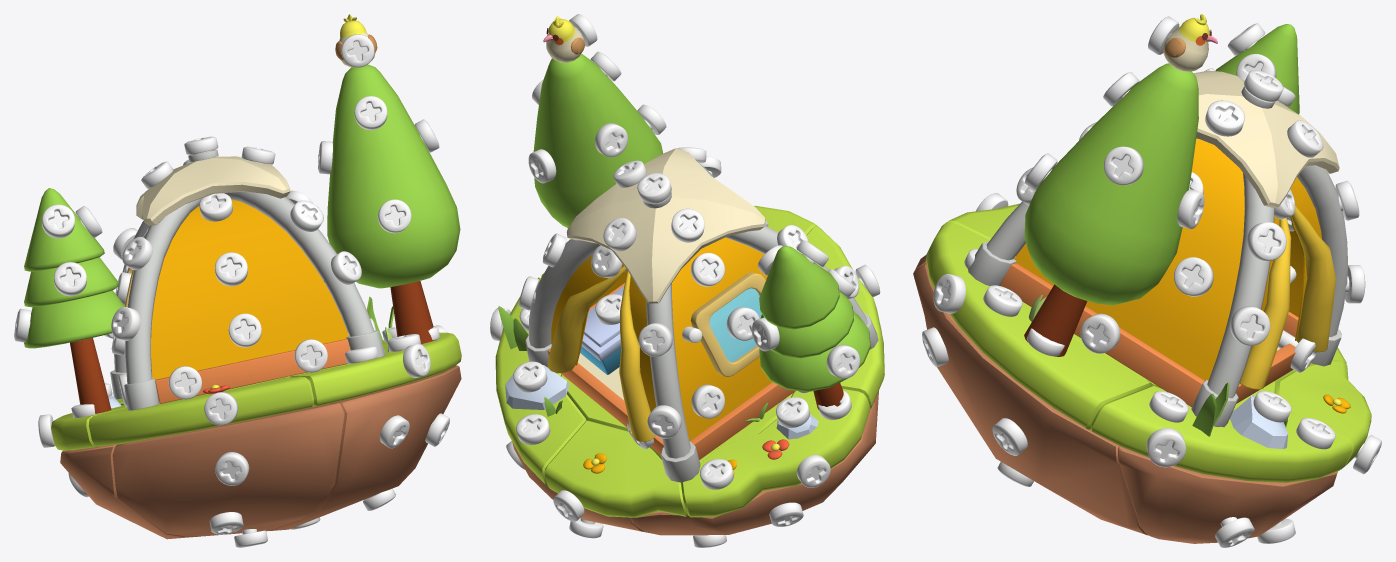
File: Camp_GroupD.fbx
3 views of the same model, side by side, from view 1: azimuth 30°, elevation 25°; view 2: azimuth 150°, elevation 25°; view 3: azimuth 270°, elevation 25° (orthographic). The views are drawn at different scales.
Visible parts, largest first — view 1: Board_018, Board_023, Board_035, Screw (×19), Board_025, Board_028, Board_005.001, Board_029, Board_003, Board_004, Board_031, Board_037 (+9 smaller); view 2: Screw (×29), Board_035, Board_005.001, Board_030, Board_027, Board_014, Board_006, Board_022, Board_026, Board_033, Board_011, Board_039 (+16 smaller); view 3: Board_035, Screw (×29), Board_025, Board_019, Board_029, Board_026, Board_024, Board_005.001, Board_014, Board_040, Board_027, Board_036 (+9 smaller).
Boxes of the visible parts, left/top/right/bottom form: Board_018: left=151, top=199, right=348, bottom=379; Board_023: left=112, top=403, right=344, bottom=536; Board_035: left=327, top=64, right=460, bottom=288; Screw (×19): left=42, top=34, right=430, bottom=534; Board_025: left=268, top=365, right=461, bottom=530; Board_028: left=88, top=377, right=314, bottom=446; Board_005.001: left=136, top=156, right=290, bottom=225; Board_029: left=290, top=327, right=461, bottom=406; Board_003: left=124, top=211, right=180, bottom=410; Board_004: left=254, top=193, right=385, bottom=357; Board_031: left=24, top=290, right=124, bottom=348; Board_037: left=155, top=339, right=350, bottom=403; Screw (×29): left=513, top=14, right=860, bottom=538; Board_035: left=533, top=54, right=663, bottom=227; Board_005.001: left=566, top=148, right=765, bottom=303; Board_030: left=681, top=388, right=870, bottom=517; Board_027: left=544, top=420, right=687, bottom=517; Board_014: left=547, top=255, right=656, bottom=441; Board_006: left=672, top=237, right=772, bottom=441; Board_022: left=631, top=402, right=876, bottom=535; Board_026: left=495, top=277, right=586, bottom=486; Board_033: left=759, top=246, right=839, bottom=329; Board_011: left=690, top=272, right=765, bottom=376; Board_039: left=646, top=283, right=700, bottom=482; Board_035: left=1024, top=63, right=1198, bottom=305; Screw (×29): left=922, top=16, right=1381, bottom=547; Board_025: left=913, top=262, right=1147, bottom=535; Board_019: left=1014, top=139, right=1244, bottom=380; Board_029: left=926, top=222, right=1150, bottom=430; Board_026: left=1091, top=382, right=1351, bottom=482; Board_024: left=1118, top=446, right=1337, bottom=543; Board_005.001: left=1193, top=70, right=1339, bottom=207; Board_014: left=1239, top=177, right=1335, bottom=389; Board_040: left=1191, top=182, right=1274, bottom=427; Board_027: left=1275, top=361, right=1371, bottom=469; Board_036: left=1000, top=263, right=1204, bottom=407.
Bounding box in the file's own units: 9.18 × 10.64 × 8.02.
Materials: 2 (1 with a texture image).
